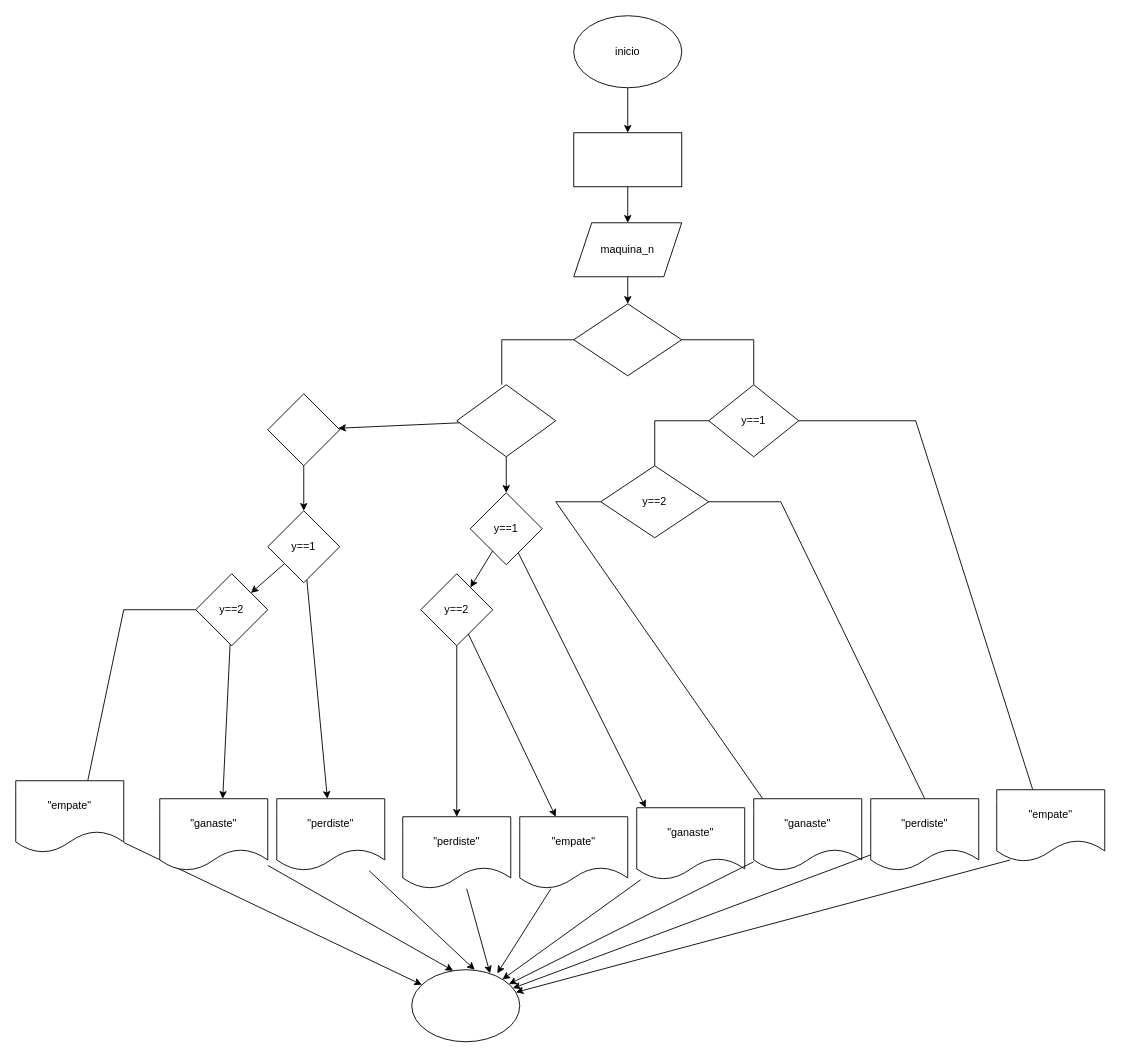
Image size: 1121x1058. Some labels were removed from this diagram. Each missing label, with the box of its shape:
jugador_n: (573, 132, 682, 187)
x==1: (573, 303, 682, 376)
x==2: (456, 384, 556, 457)
x==3: (267, 393, 340, 466)
